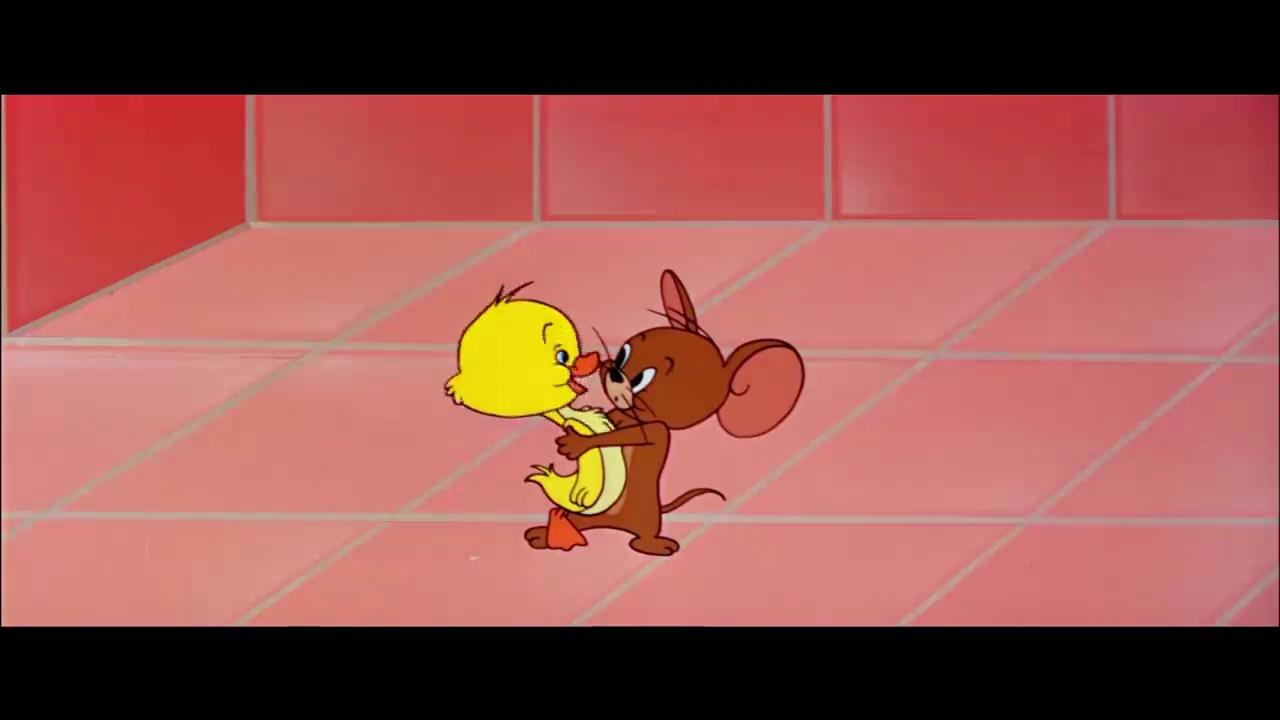Jerry: (522, 266, 807, 559)
